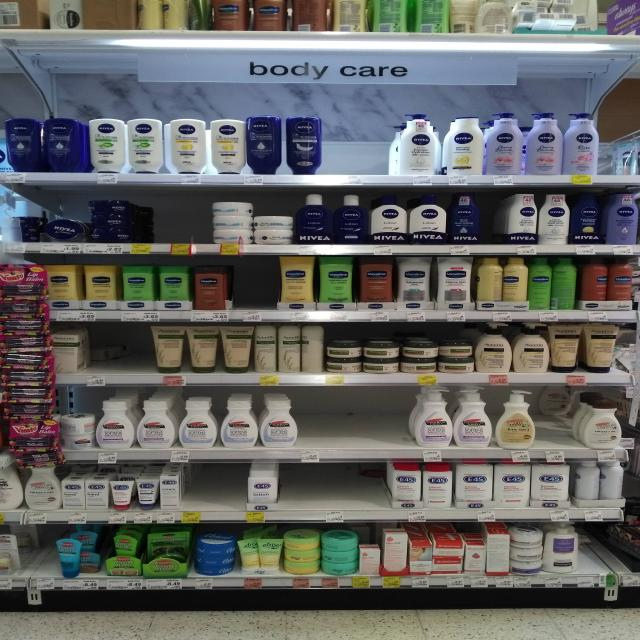100- O.O.S: (301, 387, 407, 462), (283, 464, 383, 522), (323, 120, 388, 185), (156, 195, 212, 254), (192, 465, 244, 523), (236, 260, 275, 322), (579, 525, 614, 588), (534, 413, 566, 462), (130, 323, 150, 386), (38, 528, 56, 589)
